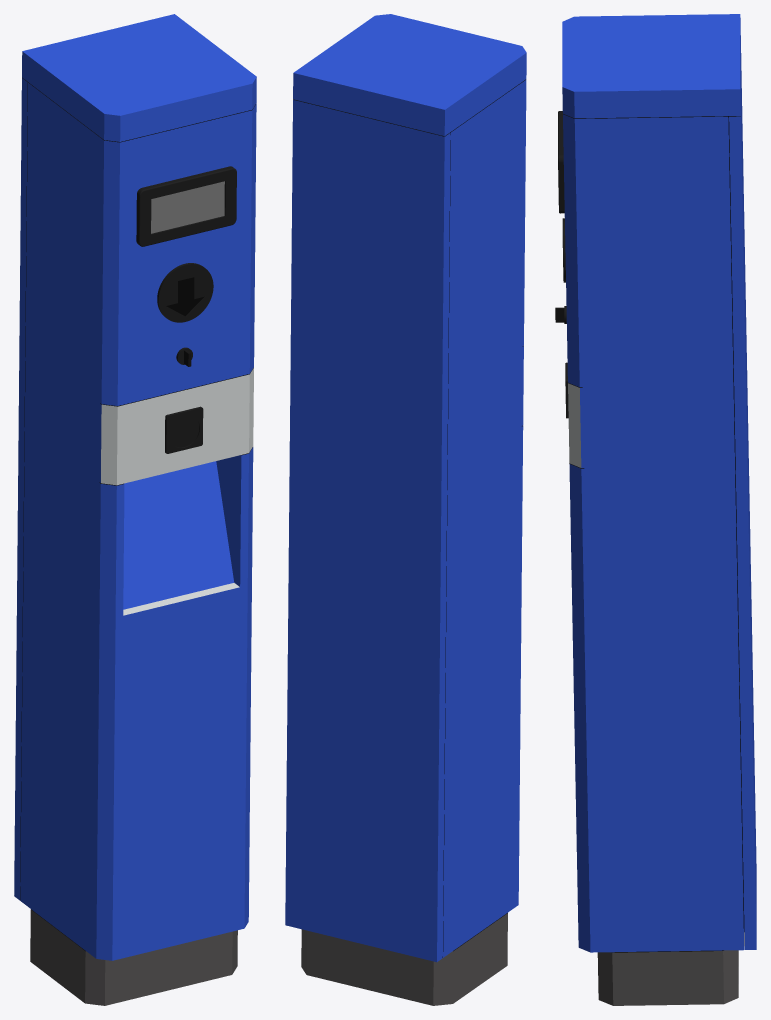
The model's file is 公交充电桩1.fbx.
3 views of the same model, side by side, from view 1: azimuth 30°, elevation 25°; view 2: azimuth 150°, elevation 25°; view 3: azimuth 270°, elevation 25° (orthographic).
Parts seen in each view (by area): view 1: å¬äº¤åçµæ¡©1 (×10); view 2: å¬äº¤åçµæ¡©1 (×5); view 3: å¬äº¤åçµæ¡©1 (×7).
Part boxes in pixels (x1,y1,x2,y2): å¬äº¤åçµæ¡©1 (×10): (14,14,256,1005); å¬äº¤åçµæ¡©1 (×5): (285,14,526,1005); å¬äº¤åçµæ¡©1 (×7): (558,14,756,1005).
Bounding box in the file's own units: 300 × 1704 × 339.
